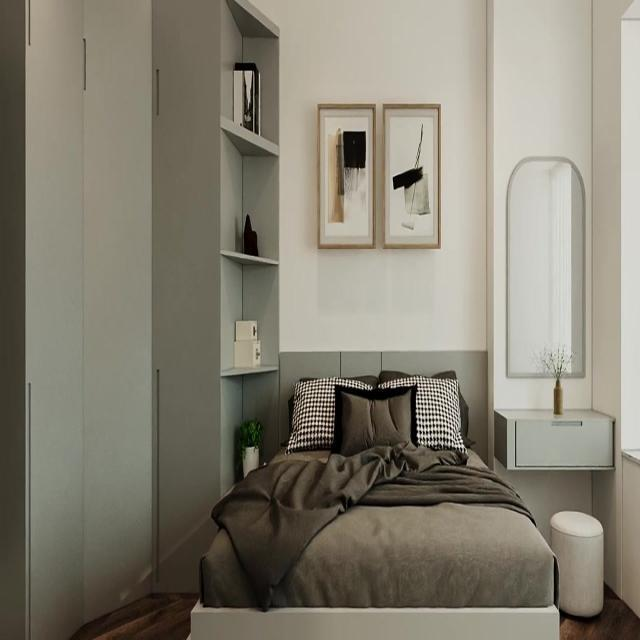obstacle: (190, 350, 560, 638), (494, 402, 614, 477)
